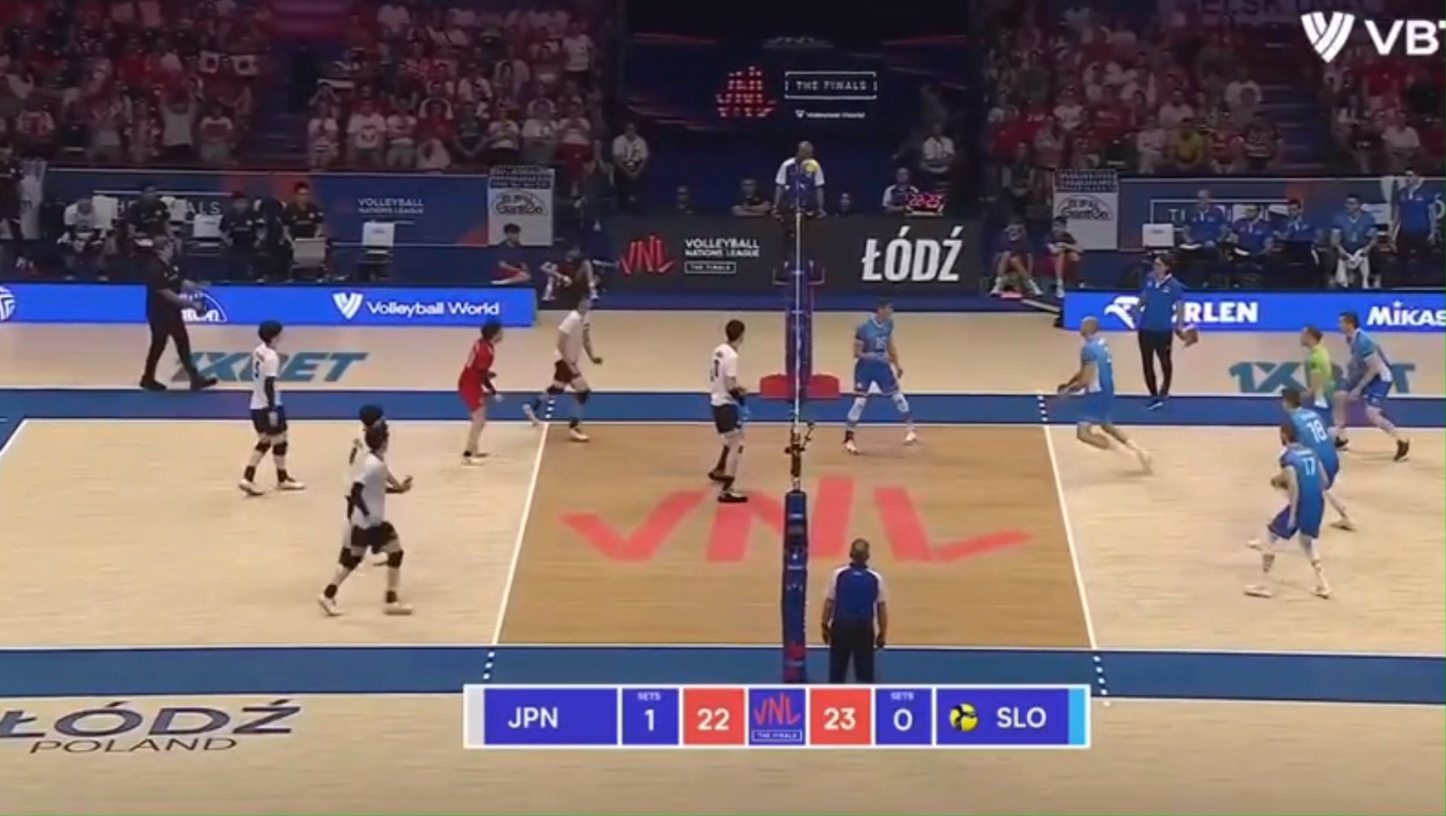player: (1246, 419, 1330, 598), (1057, 316, 1150, 470), (843, 302, 916, 453), (1335, 311, 1408, 460), (1281, 388, 1353, 530), (1302, 326, 1334, 428)
player 1: (319, 425, 409, 614), (238, 320, 304, 495), (524, 298, 601, 441), (709, 320, 747, 502), (458, 320, 502, 463), (349, 404, 384, 465), (388, 477, 403, 491)
referee: (137, 235, 217, 391), (820, 539, 888, 683), (1130, 255, 1186, 409), (773, 141, 825, 285)
